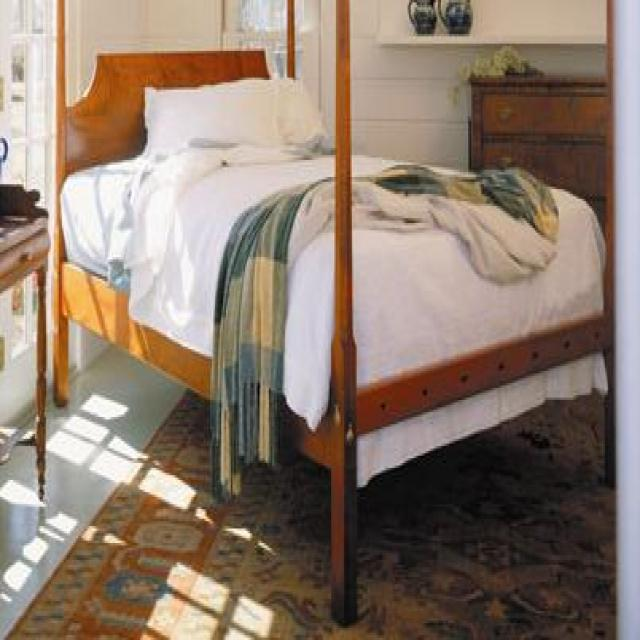bed: (50, 0, 614, 625)
table: (0, 213, 49, 501)
